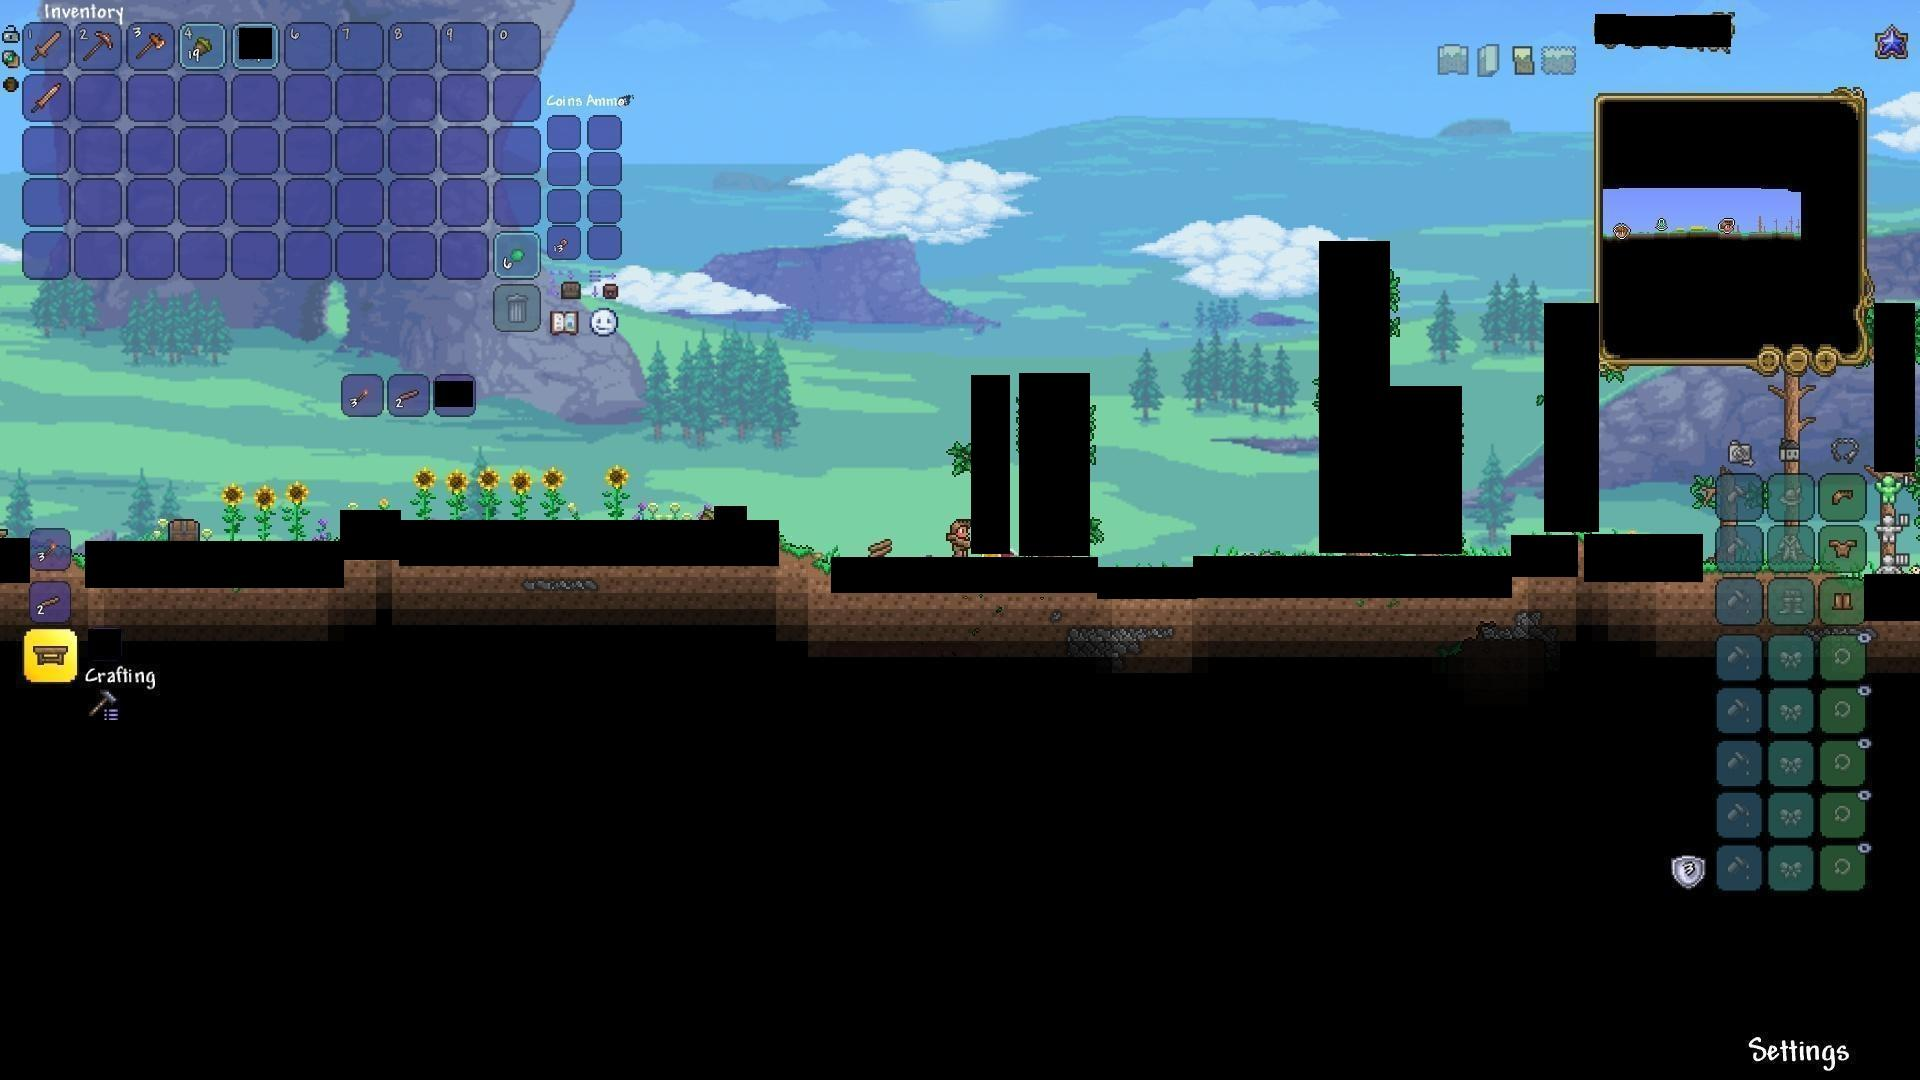breastplate: (1829, 537, 1859, 558)
dirt: (779, 539, 827, 582)
helmet: (1826, 483, 1858, 512)
legs: (1832, 588, 1857, 615)
wood: (866, 535, 898, 566)
workbench: (32, 641, 69, 666)
